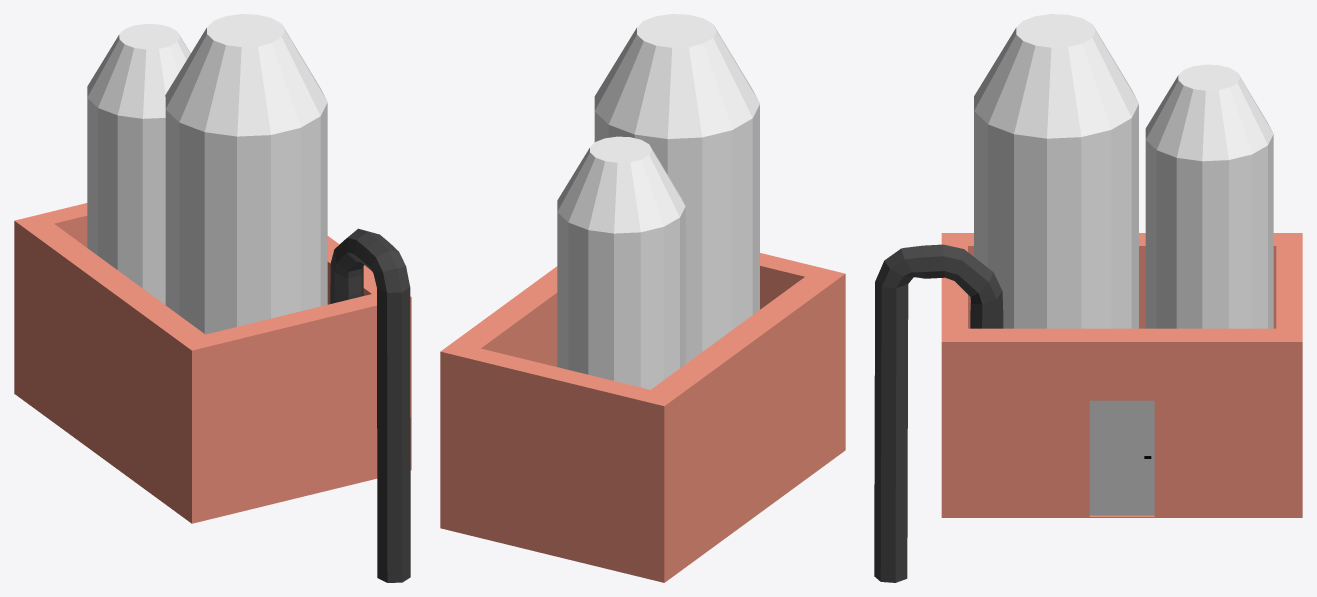
Rendered from Deposito.fbx.
3 views of the same model, side by side, from view 1: azimuth 30°, elevation 25°; view 2: azimuth 150°, elevation 25°; view 3: azimuth 270°, elevation 25° (orthographic). The views are drawn at different scales.
Parts seen in each view (by area): view 1: Cube, Cylinder, Cylinder.001, Cylinder.002; view 2: Cube, Cylinder, Cylinder.001; view 3: Cube, Cylinder, Cylinder.001, Cylinder.002, Cube.001.
Part boxes in pixels (x1,y1,x2,y2): Cube: (14,203,411,523); Cylinder: (165,14,327,334); Cylinder.001: (87,23,190,304); Cylinder.002: (330,228,410,582); Cube: (440,253,845,582); Cylinder: (594,14,759,363); Cylinder.001: (557,136,685,389); Cube: (941,233,1302,517); Cylinder: (974,14,1138,328); Cylinder.001: (1145,64,1273,328); Cylinder.002: (874,244,1003,582); Cube.001: (1089,400,1154,515).
Size of the model in its own units: 200 by 438 by 332.
